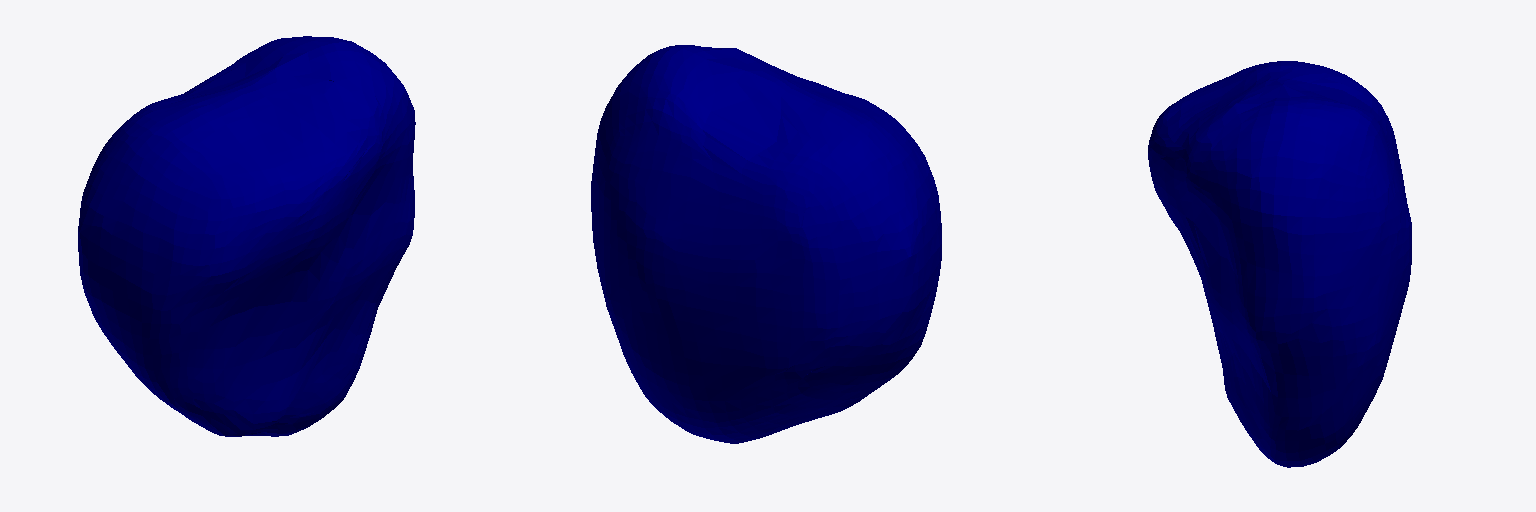
Rendered from SesamoidL.obj.
3 views of the same model, side by side, from view 1: azimuth 30°, elevation 25°; view 2: azimuth 150°, elevation 25°; view 3: azimuth 270°, elevation 25° (orthographic).
Parts seen in each view (by area): view 1: Object_0SesamoidL; view 2: Object_0SesamoidL; view 3: Object_0SesamoidL.
Boxes of the visible parts, x1,y1,x2,y2 form: Object_0SesamoidL: [78, 36, 415, 436]; Object_0SesamoidL: [591, 45, 941, 443]; Object_0SesamoidL: [1148, 61, 1411, 467].
Size of the model in its own units: 11.84 by 13.46 by 8.48.